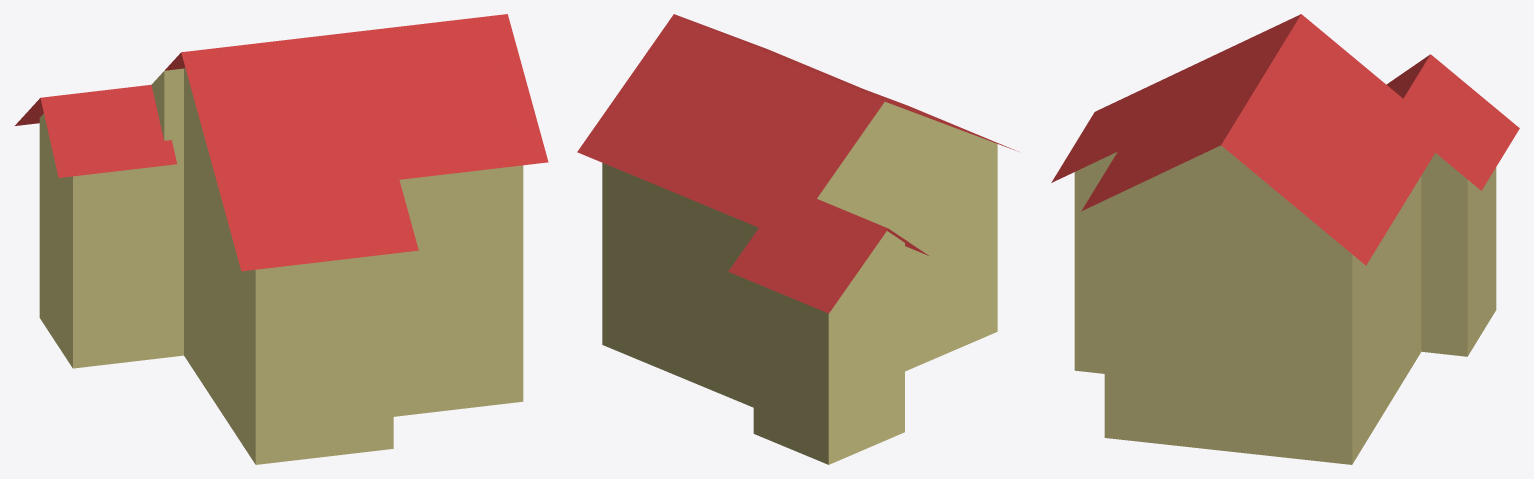
The picture shows the model from 3 angles, left to right: view 1: azimuth 30°, elevation 25°; view 2: azimuth 150°, elevation 25°; view 3: azimuth 270°, elevation 25°; orthographic projection. The views are drawn at different scales.
Bounding box in the file's own units: 17.12 × 18.1 × 13.36.
